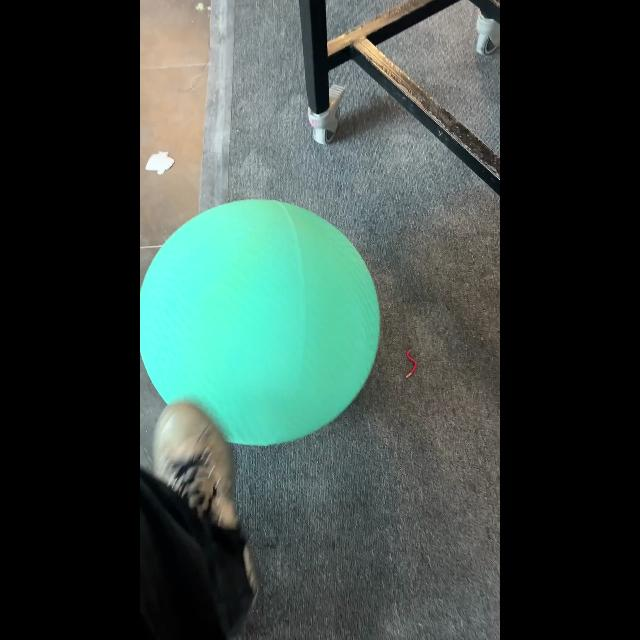ALGAE: (141, 198, 381, 447)
